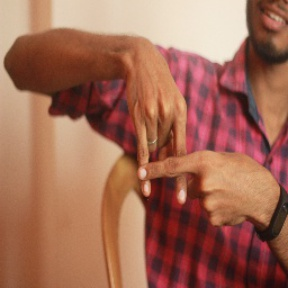H: (120, 94, 209, 208)
